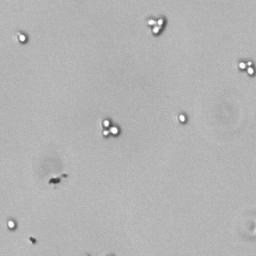budding: (147, 16, 166, 36), (101, 118, 120, 136), (238, 60, 255, 75), (16, 31, 28, 44)
individual: (7, 219, 17, 229), (177, 113, 187, 123)
